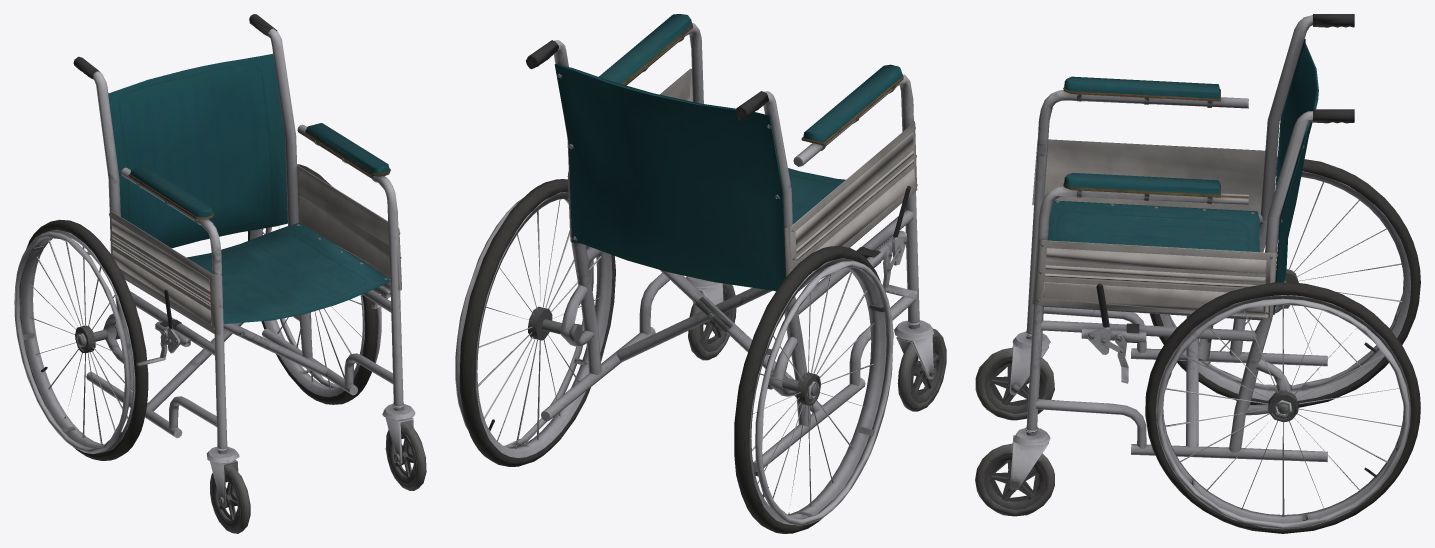
Rendered from wheelchair_01.glb.
3 views of the same model, side by side, from view 1: azimuth 30°, elevation 25°; view 2: azimuth 150°, elevation 25°; view 3: azimuth 270°, elevation 25° (orthographic). The views are drawn at different scales.
Parts seen in each view (by area): view 1: wheelchair_01; view 2: wheelchair_01; view 3: wheelchair_01.
Part boxes in pixels (x1,y1,x2,y2): wheelchair_01: (14,14,426,533); wheelchair_01: (455,14,946,533); wheelchair_01: (975,14,1420,533).
Bounding box in the file's own units: 0.8241 × 1.1 × 1.09.
1 material, 1 textured.
